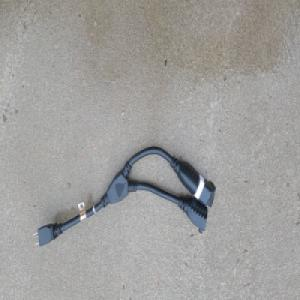Wire: (31, 143, 217, 249)
